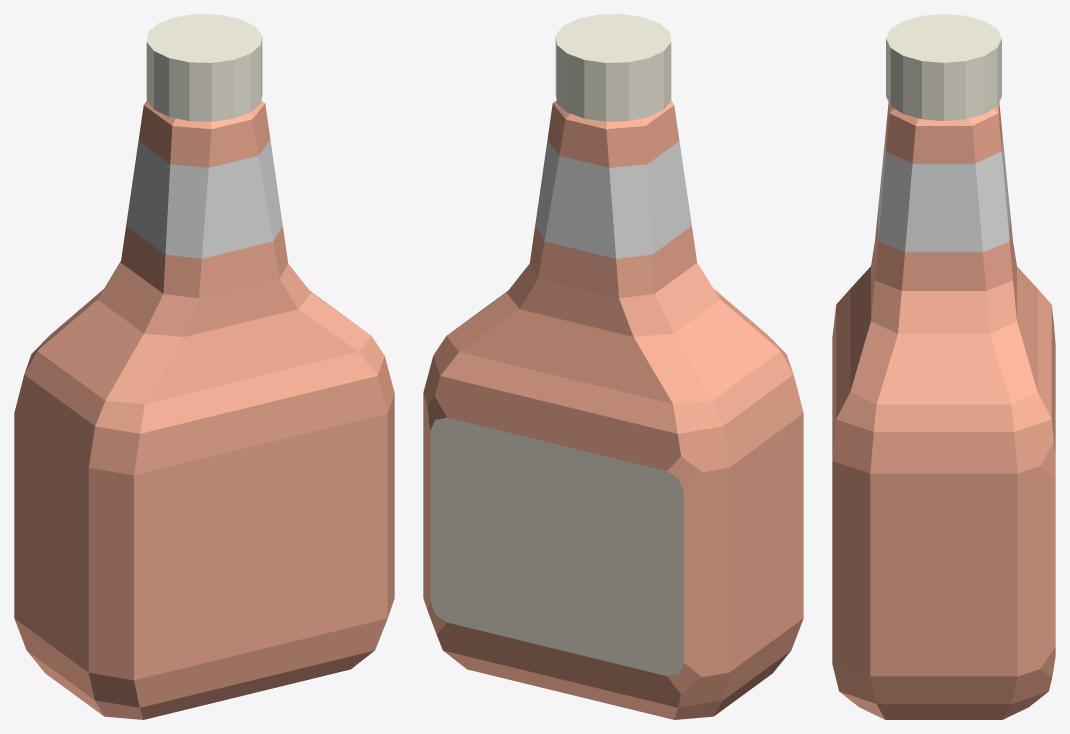
Rendered from Ketchup Bottle.fbx.
3 renders of one model, left to right at view 1: azimuth 30°, elevation 25°; view 2: azimuth 150°, elevation 25°; view 3: azimuth 270°, elevation 25°, orthographic.
Parts seen in each view (by area): view 1: Cube; view 2: Cube; view 3: Cube.
Part boxes in pixels (x1=…): Cube: x1=14, y1=14, x2=394, y2=719; Cube: x1=423, y1=14, x2=803, y2=719; Cube: x1=832, y1=14, x2=1055, y2=719.
Size of the model in its own units: 0.1164 by 0.2271 by 0.0743.
